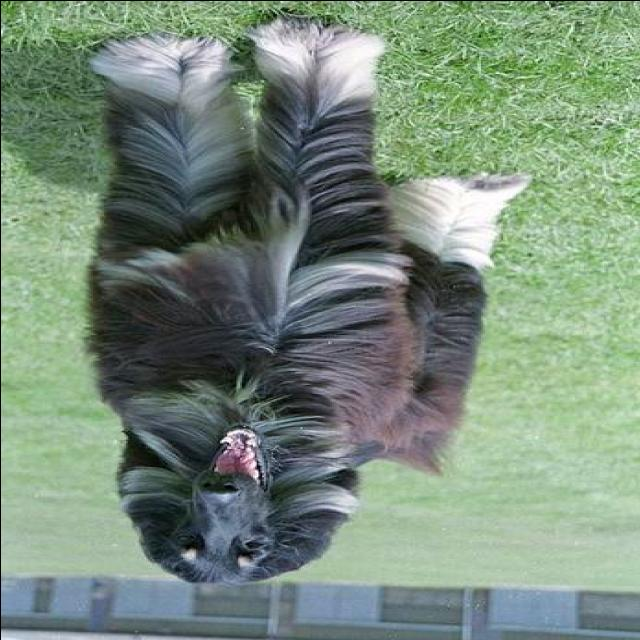afghan_hound: (82, 13, 532, 585)
